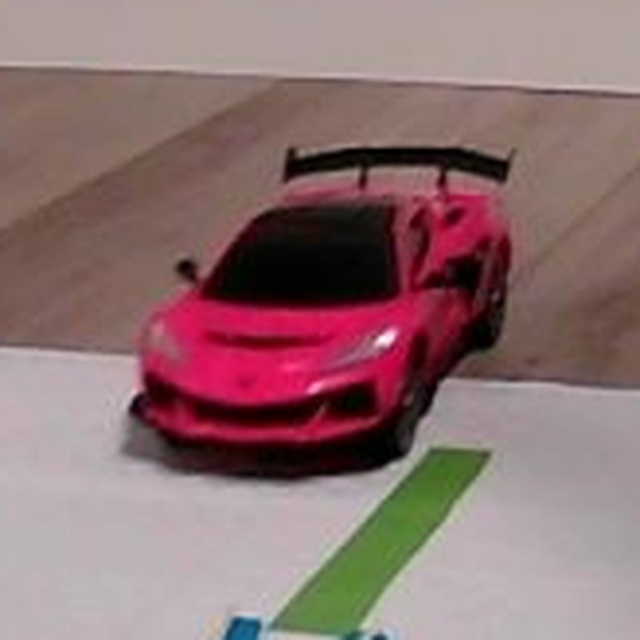tire_front_driver: (380, 395, 418, 452)
tire_rear_driver: (478, 265, 510, 345)
